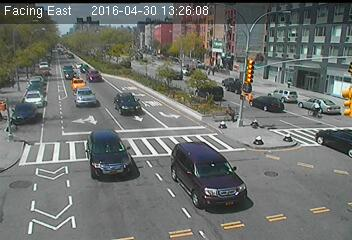neg: (310, 97, 326, 119)
